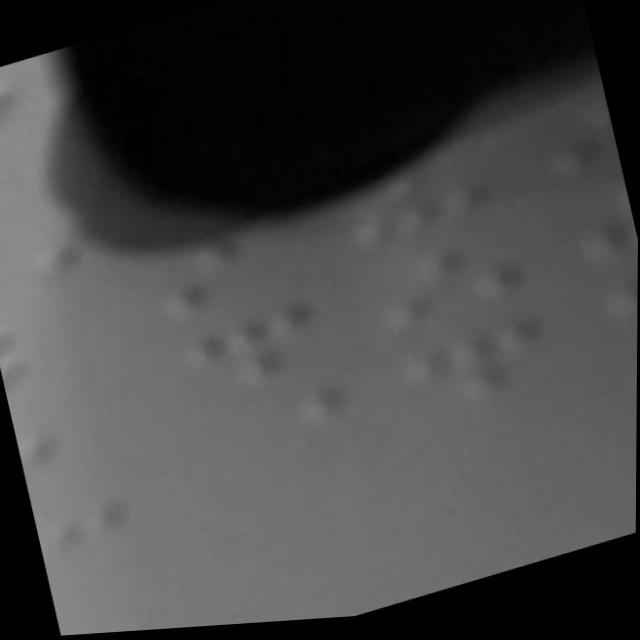braiile: (169, 299, 324, 410), (393, 320, 551, 426), (372, 238, 524, 347), (334, 157, 486, 260)
